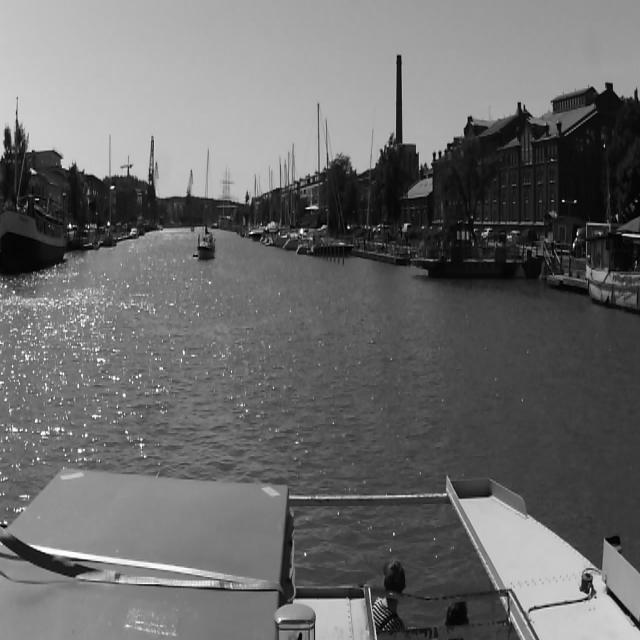ship: (0, 96, 66, 275), (408, 216, 520, 283), (309, 115, 355, 258), (584, 222, 640, 306), (196, 145, 216, 261), (102, 132, 116, 247), (306, 238, 356, 252), (246, 222, 264, 242), (129, 228, 140, 240)
